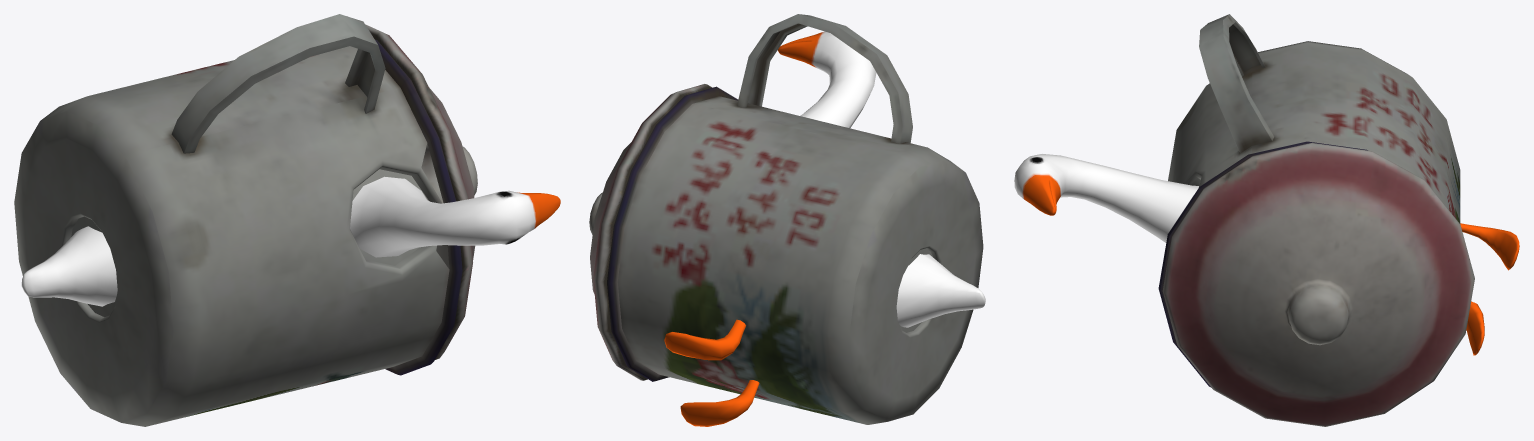
The model's file is Goose_SteelCup.obj.
3 views of the same model, side by side, from view 1: azimuth 30°, elevation 25°; view 2: azimuth 150°, elevation 25°; view 3: azimuth 270°, elevation 25° (orthographic). The views are drawn at different scales.
Visible parts, largest first — view 1: bezi, e; view 2: bezi, e; view 3: bezi, e.
Part boxes in pixels (x1,y1,x2,y2): bezi: (14,14,477,426); e: (21,176,560,306); bezi: (589,14,983,424); e: (664,31,985,426); bezi: (1158,14,1474,426); e: (1014,154,1519,355).
Bounding box in the file's own units: 1.77 × 1.52 × 1.98.
